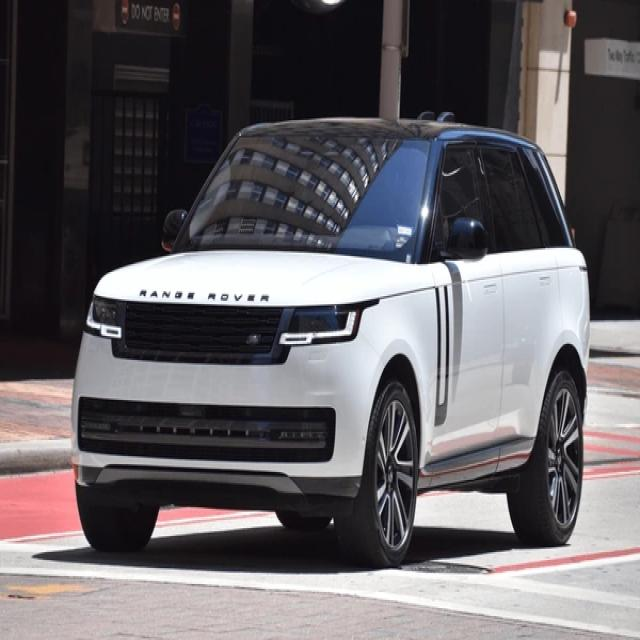rangerover: (130, 278, 270, 311)
